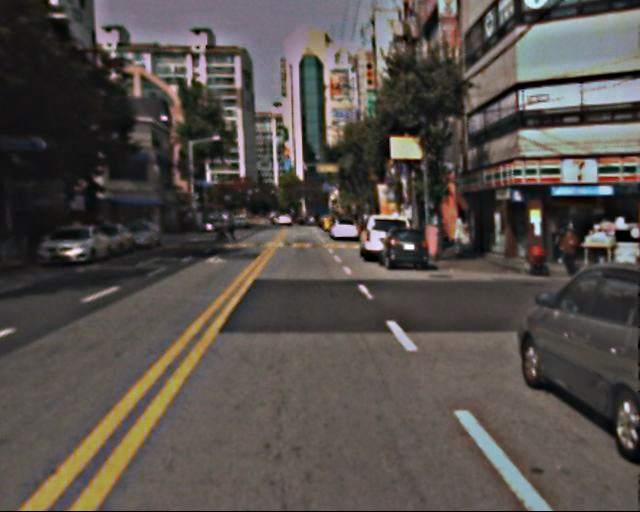person: (558, 217, 585, 281), (228, 213, 240, 242)
